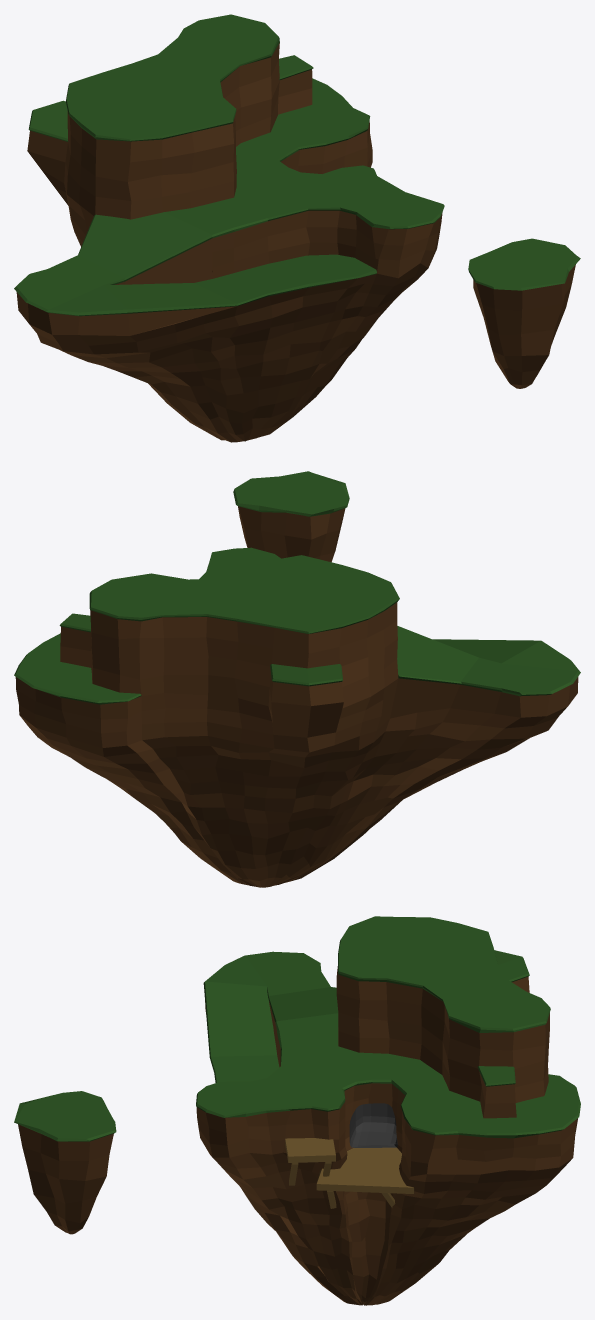
Rendered from world.fbx.
3 renders of one model, top to bottom at view 1: azimuth 30°, elevation 25°; view 2: azimuth 150°, elevation 25°; view 3: azimuth 270°, elevation 25°, orthographic. The views are drawn at different scales.
Parts seen in each view (by area): view 1: World; view 2: World; view 3: World.
Part boxes in pixels (x1,y1,x2,y2): World: (14,14,580,442); World: (14,471,580,887); World: (14,916,580,1305).
Bounding box in the file's own units: 4312 × 3125 × 5003.
